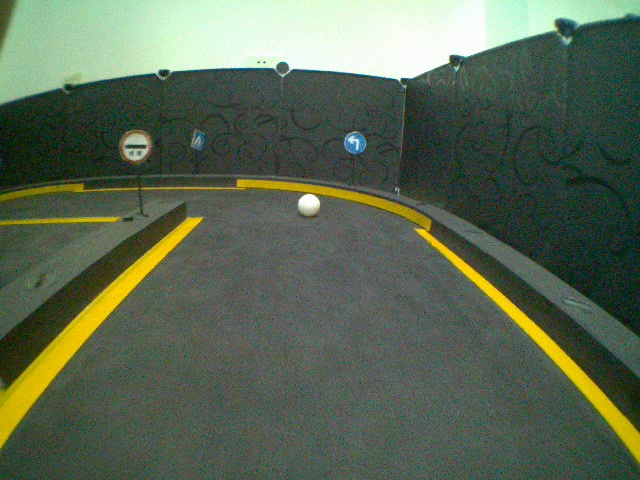ball: (296, 194, 321, 219)
